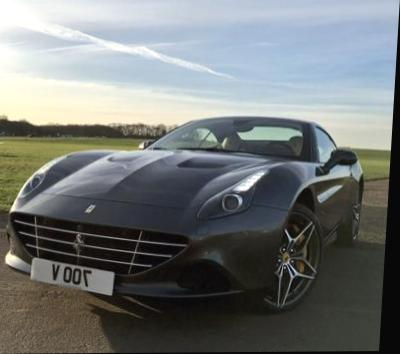License_Plate: (33, 255, 112, 296)
